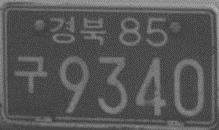0: (171, 57, 205, 117)
3: (94, 55, 128, 114)
4: (133, 54, 168, 120)
5: (143, 15, 168, 47)
8: (118, 15, 141, 47)
9: (58, 53, 90, 115)
경북_O: (48, 15, 107, 46)
구: (12, 53, 50, 95)
